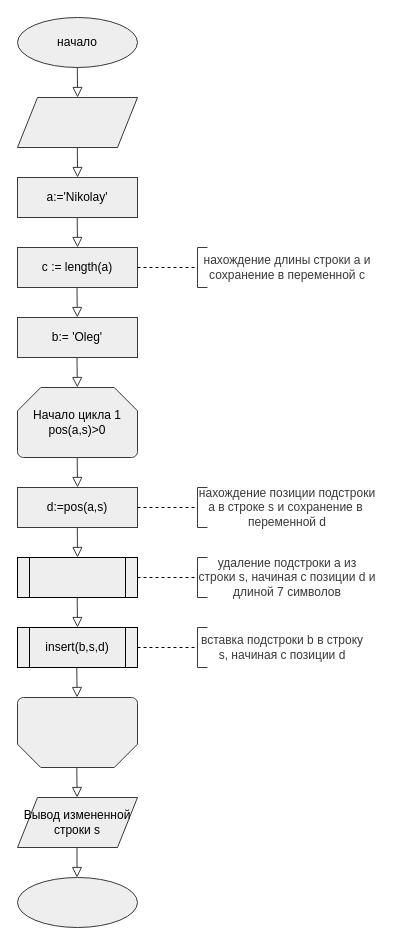
Some shapes in this 395 by 945 pixel diagram are drawn without their labels. The shapes that lost their labels are listed below. From the top down, each one's box as (x1, y1, x2, y2) in pixels, then its label:
(16, 96, 138, 148): Ввод исходной строки s
(16, 556, 138, 598): delete(s,d,7)
(16, 696, 138, 768): Конец цикла 1
(16, 876, 138, 928): конец
